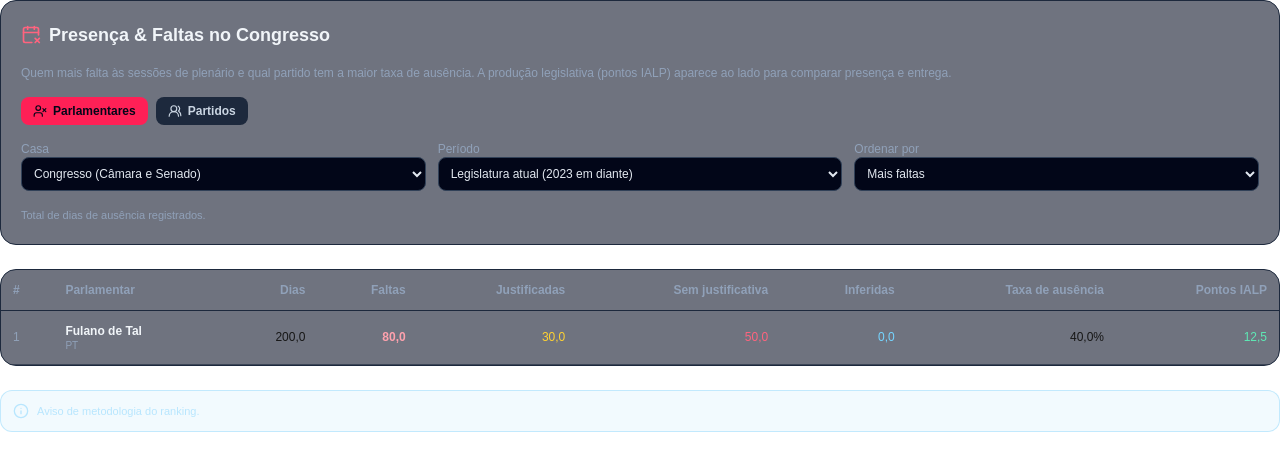
Test: AttendanceRankingPanel › marca a visão escolhida com aria-pressed
Expected: the button "Fulano de Tal" is shown, [65, 322, 142, 338]
Click the button "Partidos" at (202, 111), box [156, 97, 248, 125]
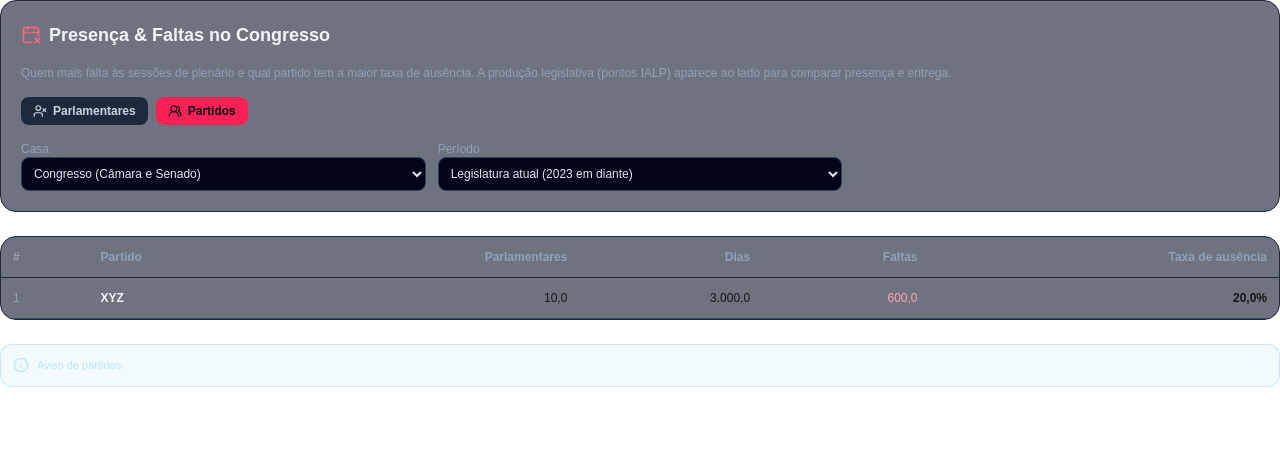
Result: the button "XYZ" is shown at [100, 290, 124, 306]
